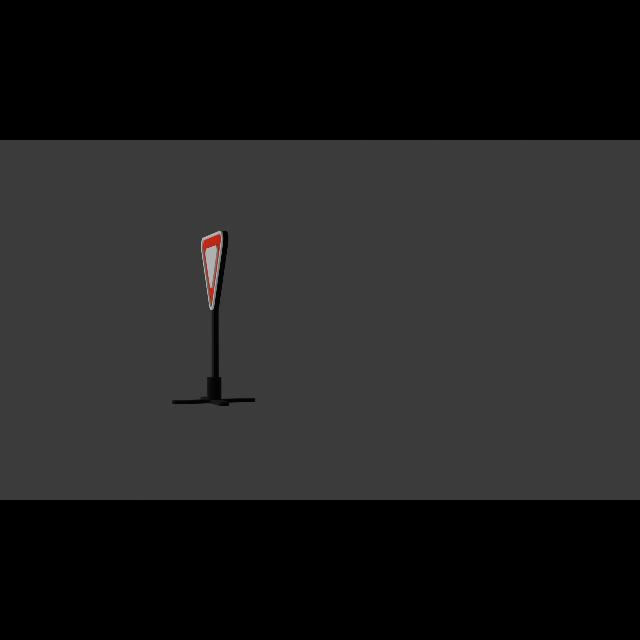sign_yield: (201, 231, 225, 311)
